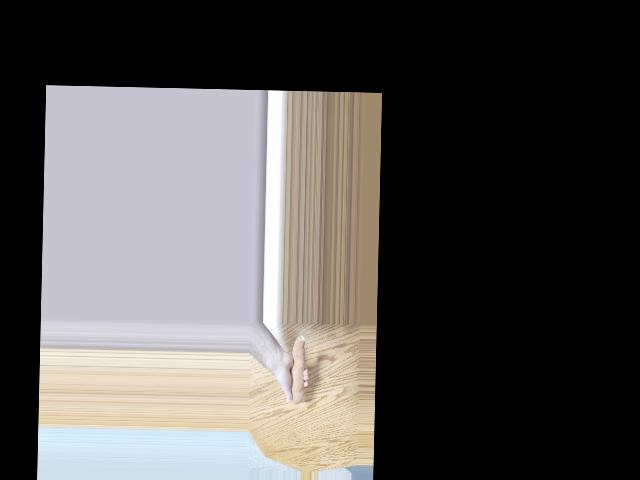sweet_potato: (283, 334, 305, 405)
